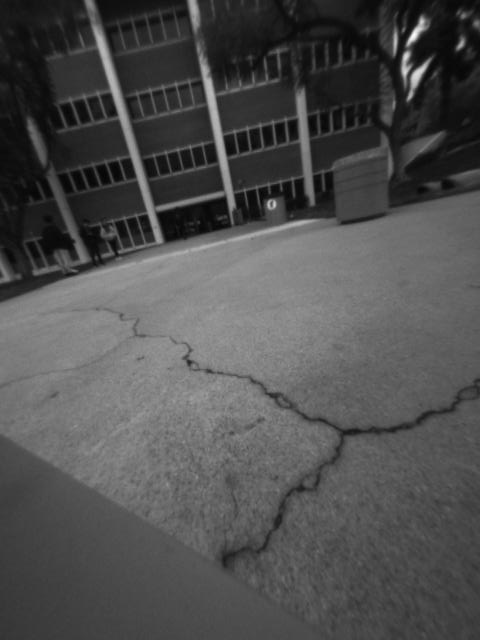trashcan: (329, 147, 392, 225), (264, 193, 290, 224)
